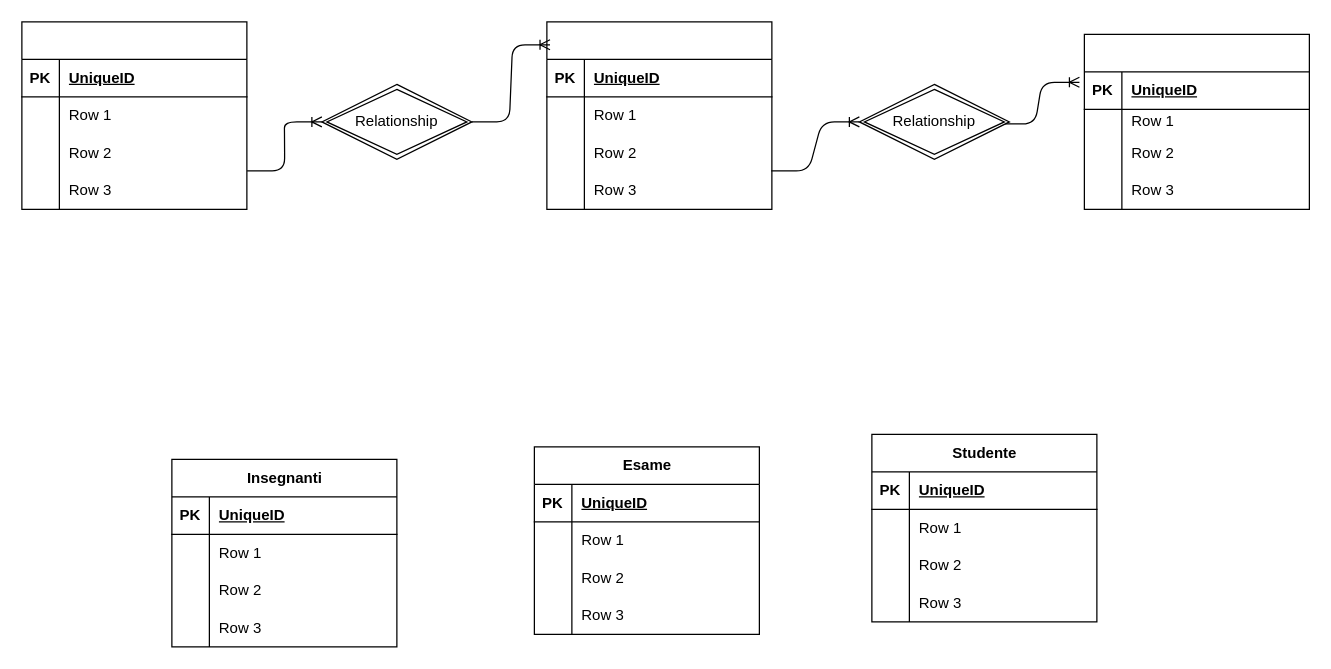
The diagram is 1331 pixels wide and 669 high, and some of its shapes have lost their labels. Each missing label, with the box of its shape:
Corsi: (1083, 33, 1309, 209)
Corsi Di Laurea: (546, 21, 772, 209)
Dipartimenti: (21, 21, 247, 209)
